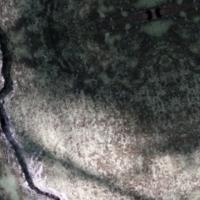crack: (0, 16, 58, 199)
